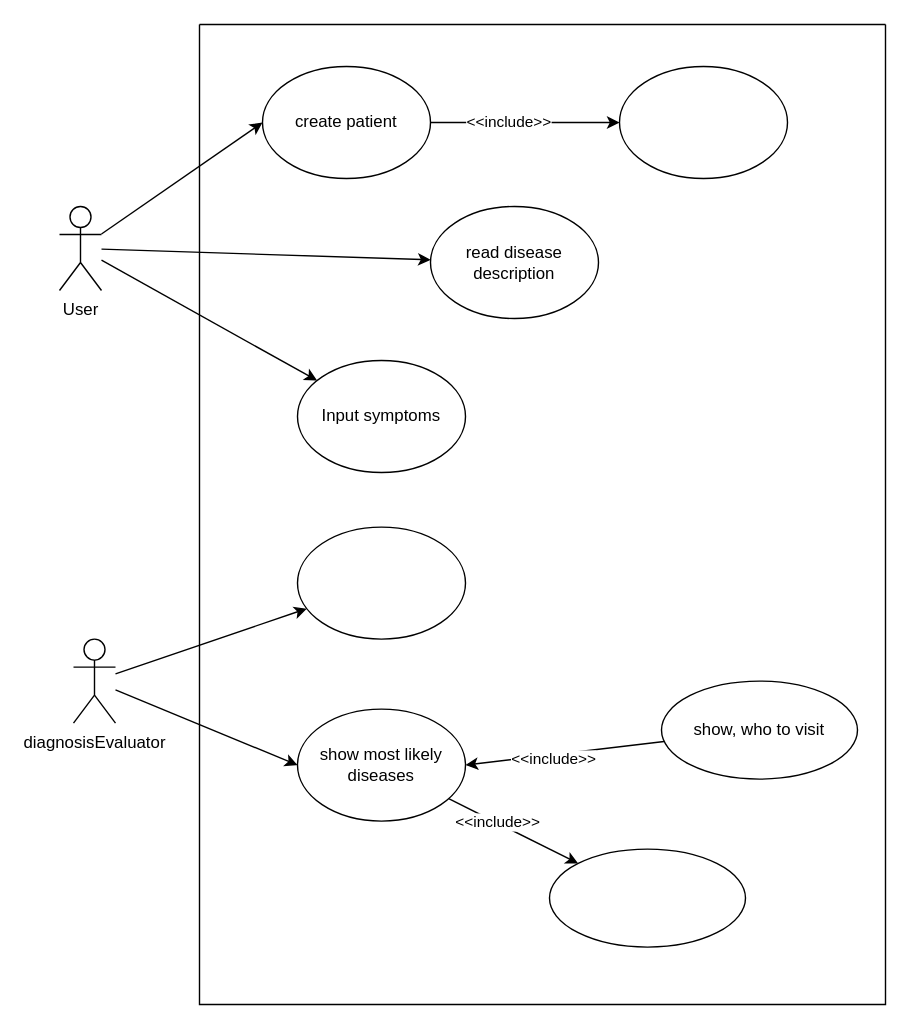
Image size: 910x1029. Some labels were removed from this diagram. Here are the shapes that lost their labels. From the top down, the centre of each, then its label:
At point (703, 121): "fill in profile form (height, weight...)".
At point (380, 582): "match symptoms to diseases".
At point (647, 897): "how urgent should treatment be".
